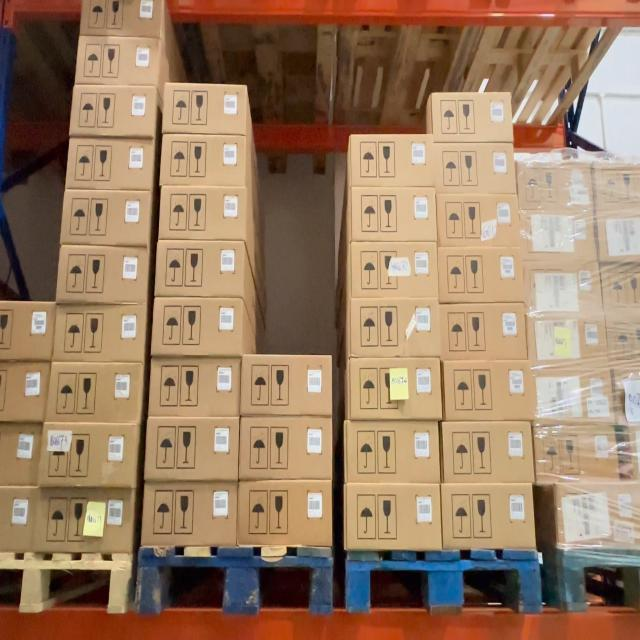box: (343, 482, 442, 550), (440, 483, 537, 552), (237, 480, 333, 548), (39, 423, 138, 488), (33, 490, 135, 552), (139, 483, 238, 546), (343, 420, 440, 484), (143, 417, 240, 481), (345, 358, 441, 421), (238, 418, 334, 481), (551, 482, 640, 549), (442, 421, 535, 484), (240, 354, 334, 416), (46, 364, 143, 424), (441, 360, 533, 422), (345, 296, 439, 356), (147, 356, 241, 416), (53, 305, 147, 365), (149, 298, 242, 356), (56, 247, 148, 305), (153, 242, 246, 299), (532, 424, 620, 484), (438, 300, 527, 359), (347, 242, 437, 300), (61, 190, 151, 247), (530, 368, 615, 426), (351, 187, 437, 244), (65, 138, 154, 192), (437, 247, 524, 302), (524, 312, 609, 368), (435, 192, 520, 248), (348, 133, 434, 188), (158, 188, 247, 241), (161, 83, 249, 136), (160, 134, 248, 187), (68, 85, 157, 136), (522, 259, 603, 312), (74, 37, 160, 86), (430, 92, 514, 142), (434, 142, 516, 192), (516, 162, 594, 213), (519, 211, 597, 261)
